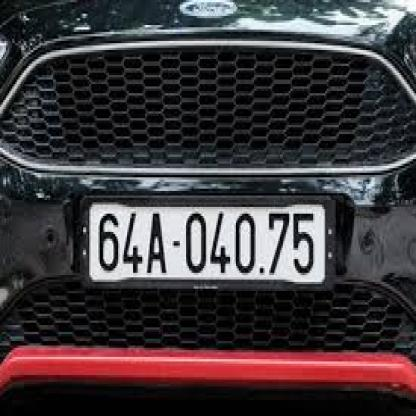biensoxe: (84, 197, 334, 294)
